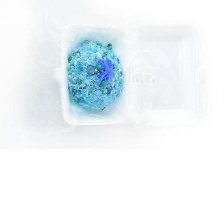foam_box: (48, 14, 204, 134)
